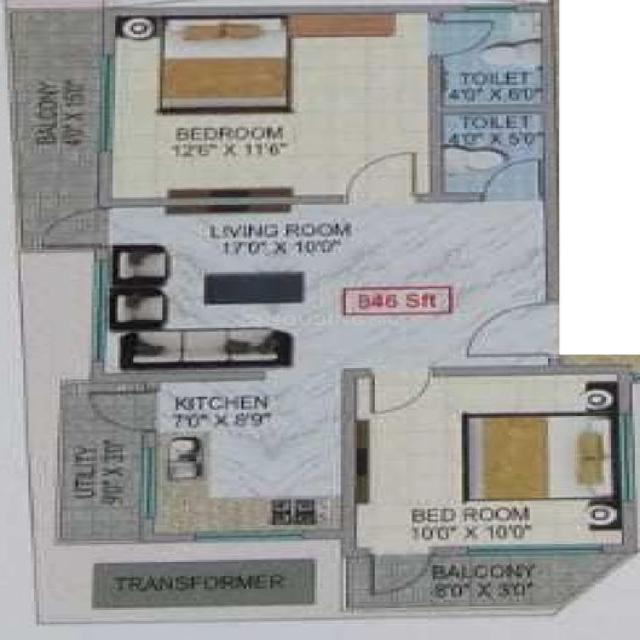Balcony-Sitout: (10, 12, 98, 246), (347, 555, 625, 607)
Bedroom: (356, 374, 621, 545)
Bedroom with Toilet: (111, 8, 550, 198)
Enterance-Foyer: (458, 298, 555, 361)
Kitchen: (150, 378, 341, 536)
Living: (105, 203, 548, 374)
Toilet: (443, 12, 539, 104), (444, 114, 543, 193)
Utility: (60, 383, 146, 538)
